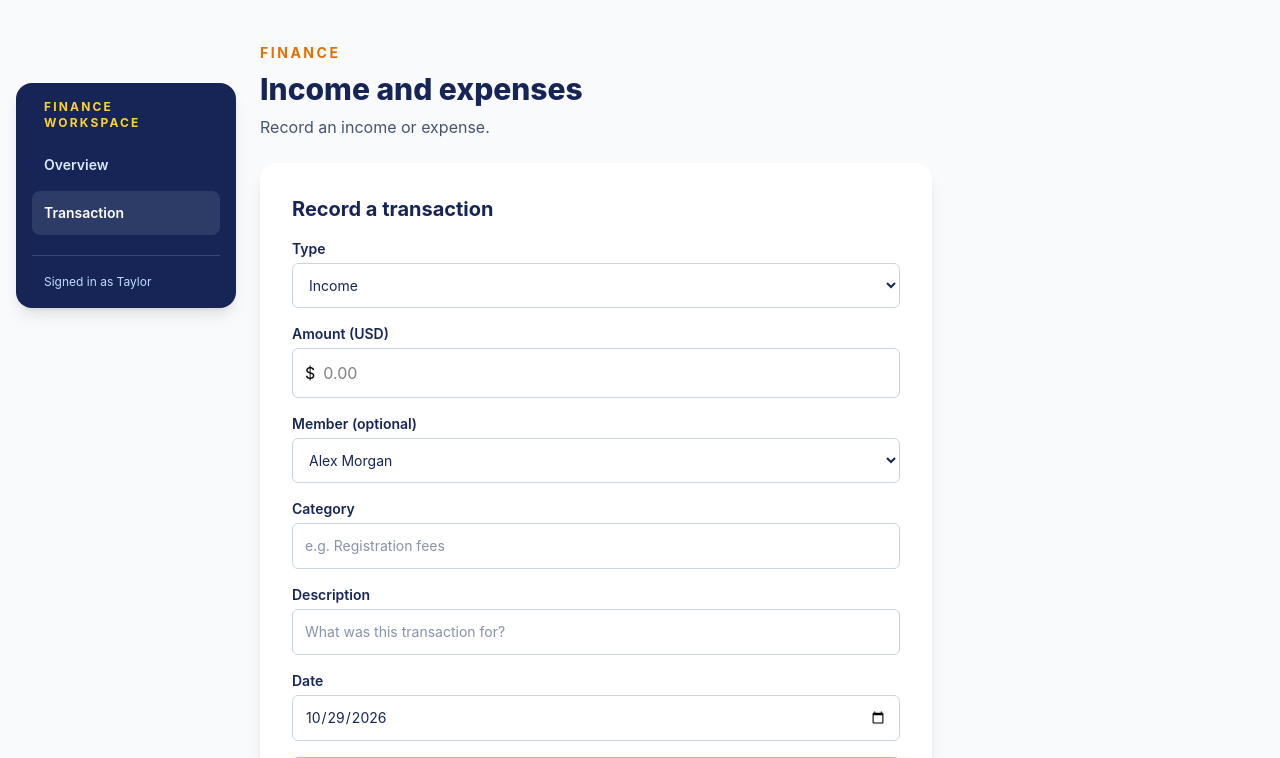
Scenario: Finance › links a recorded income payment to the selected member
Select "Alex Morgan" in the dropdown labelled "Member (optional)" at (596, 460), box x1=292 y1=438 x2=900 y2=483
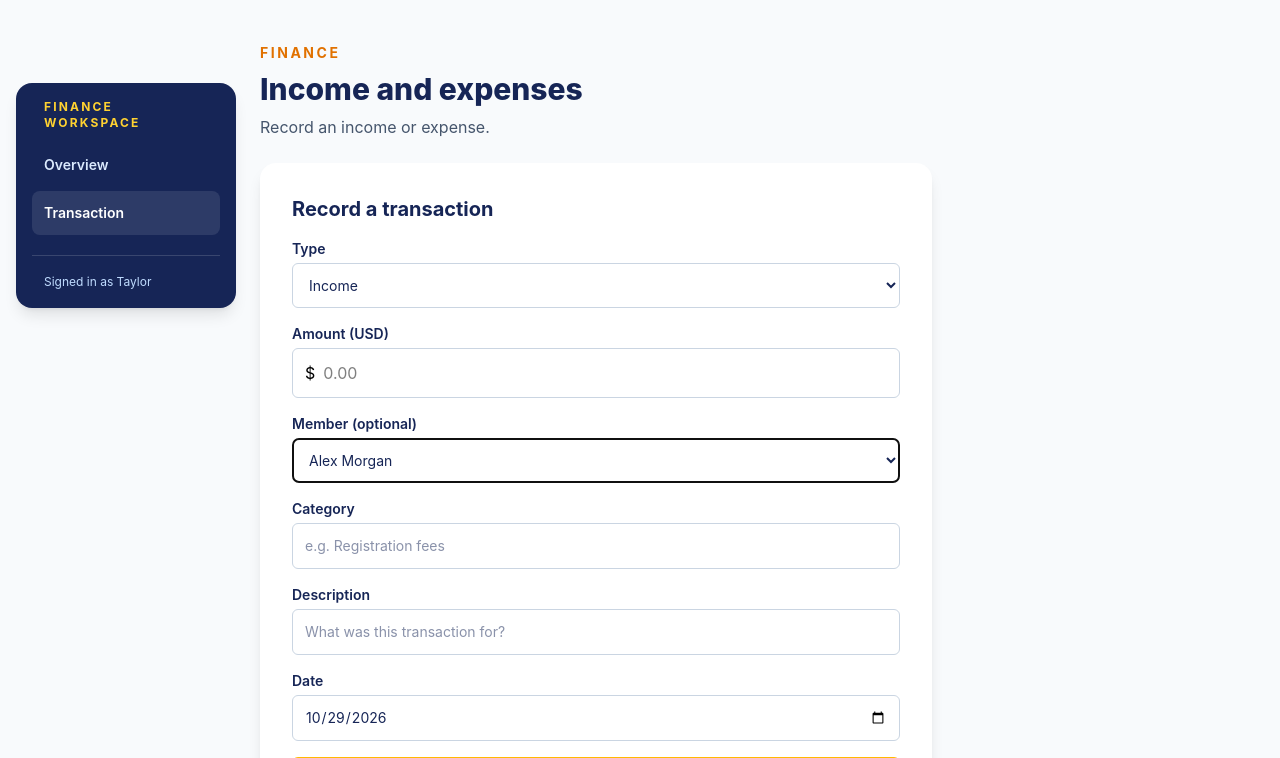
Type "25.00" into the number field labelled "Amount (USD)".
click(601, 373); type("25.00")  # box x1=315 y1=349 x2=887 y2=397
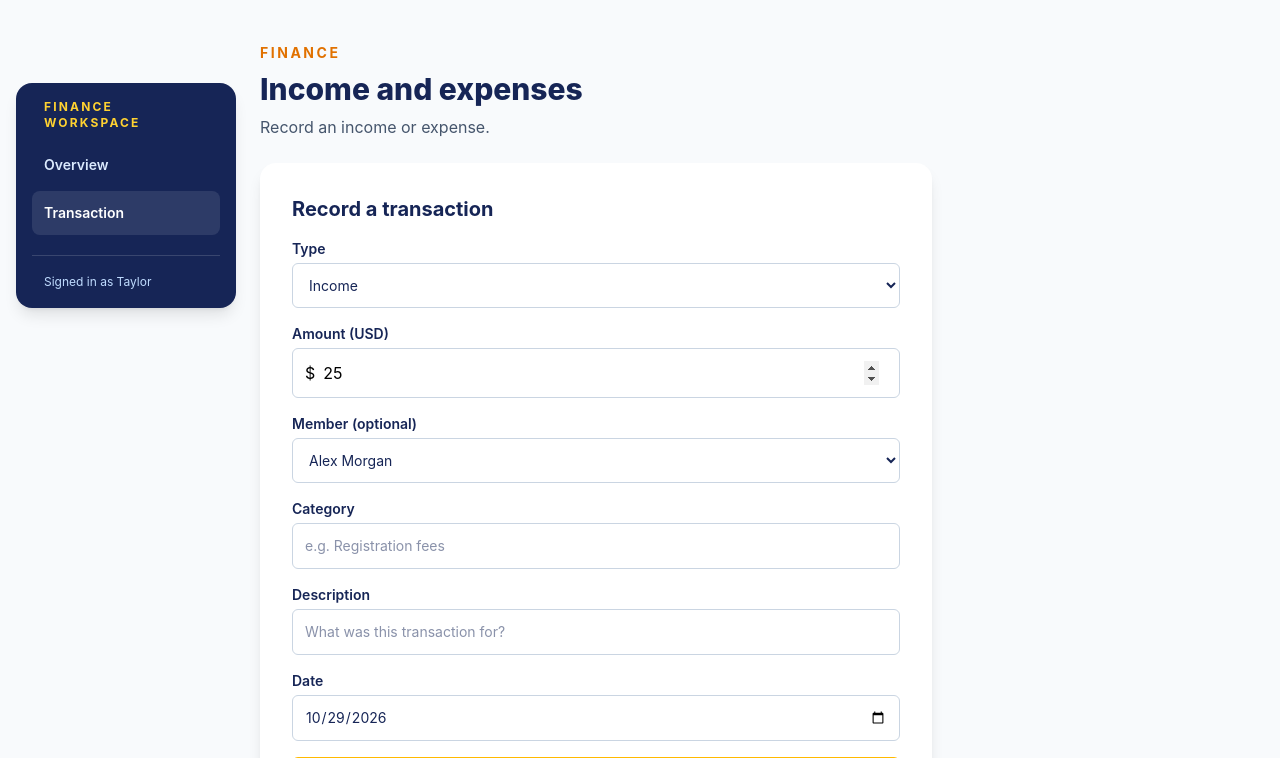
Type "Membership" into the field labelled "Category".
click(596, 546); type("Membership")  # box x1=292 y1=523 x2=900 y2=569
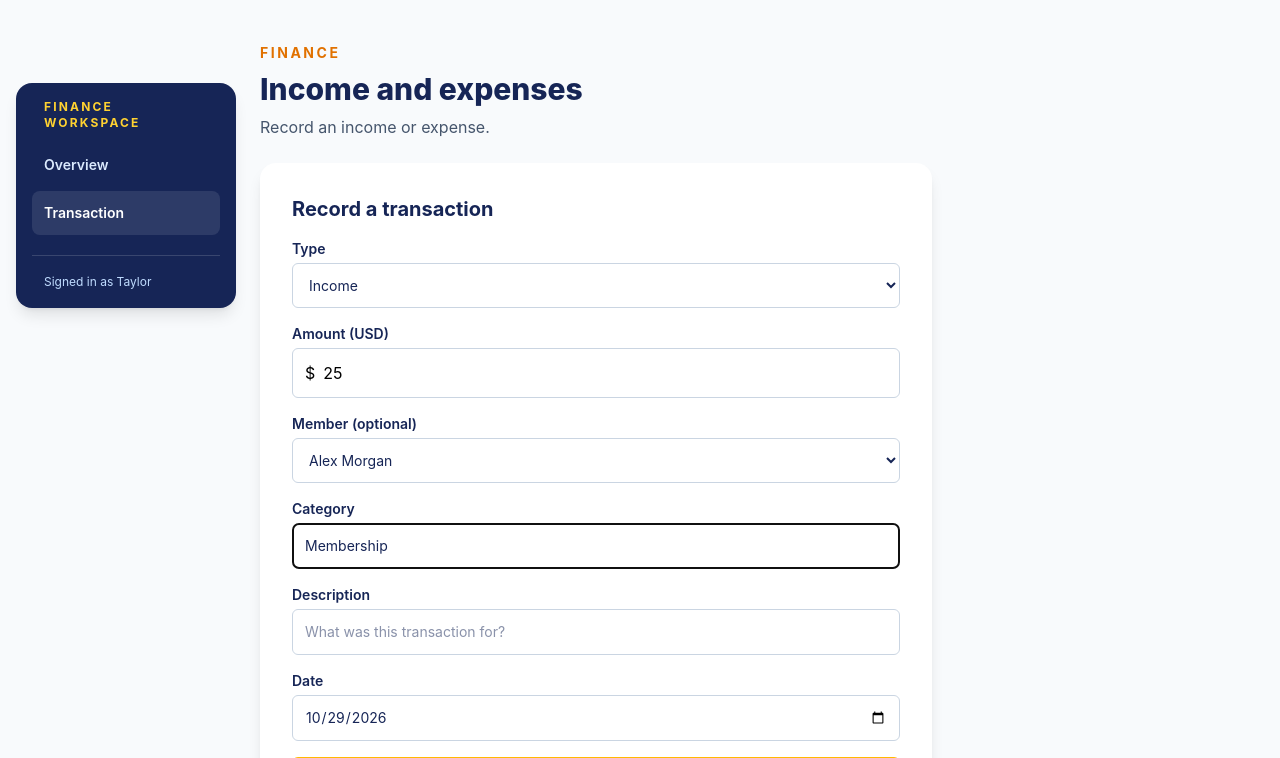
Type "Membership dues" into the field labelled "Description".
click(596, 632); type("Membership dues")  # box x1=292 y1=609 x2=900 y2=655
(page scrolled)
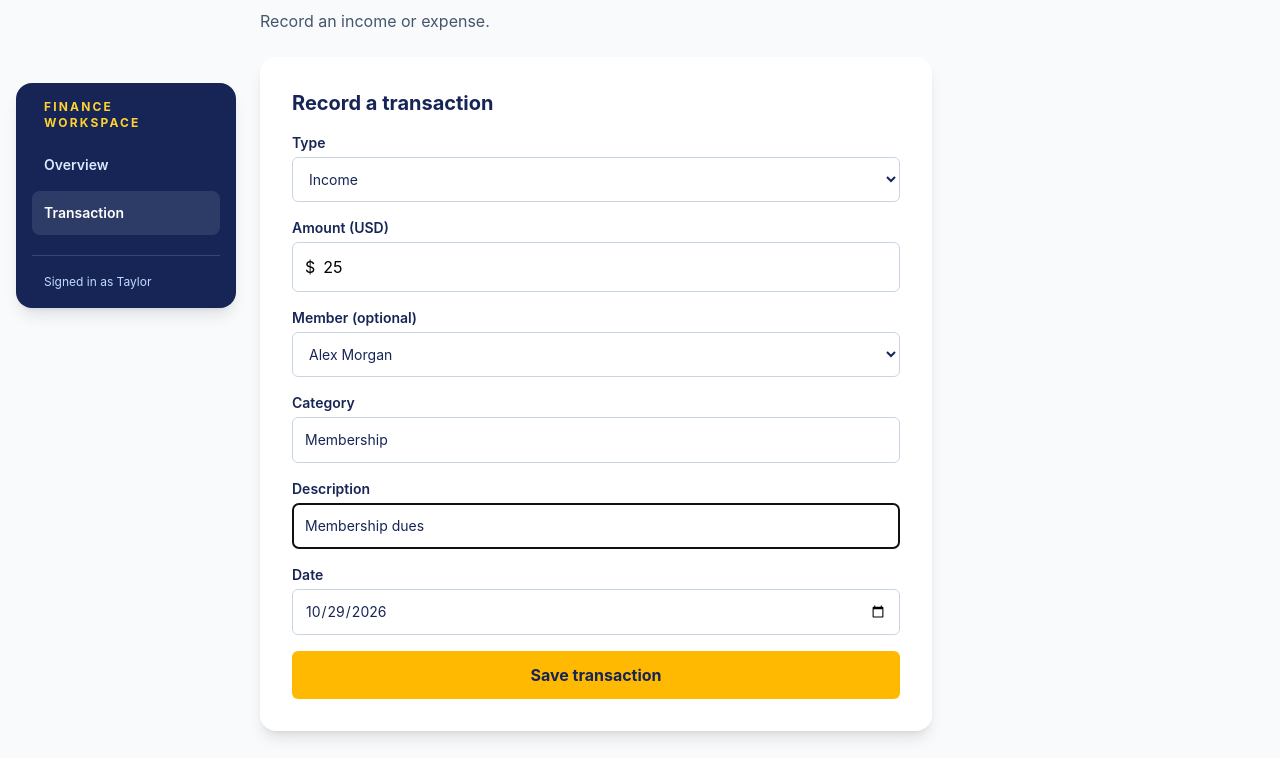
Click the button "Save transaction".
click(596, 675)  # box x1=292 y1=651 x2=900 y2=699
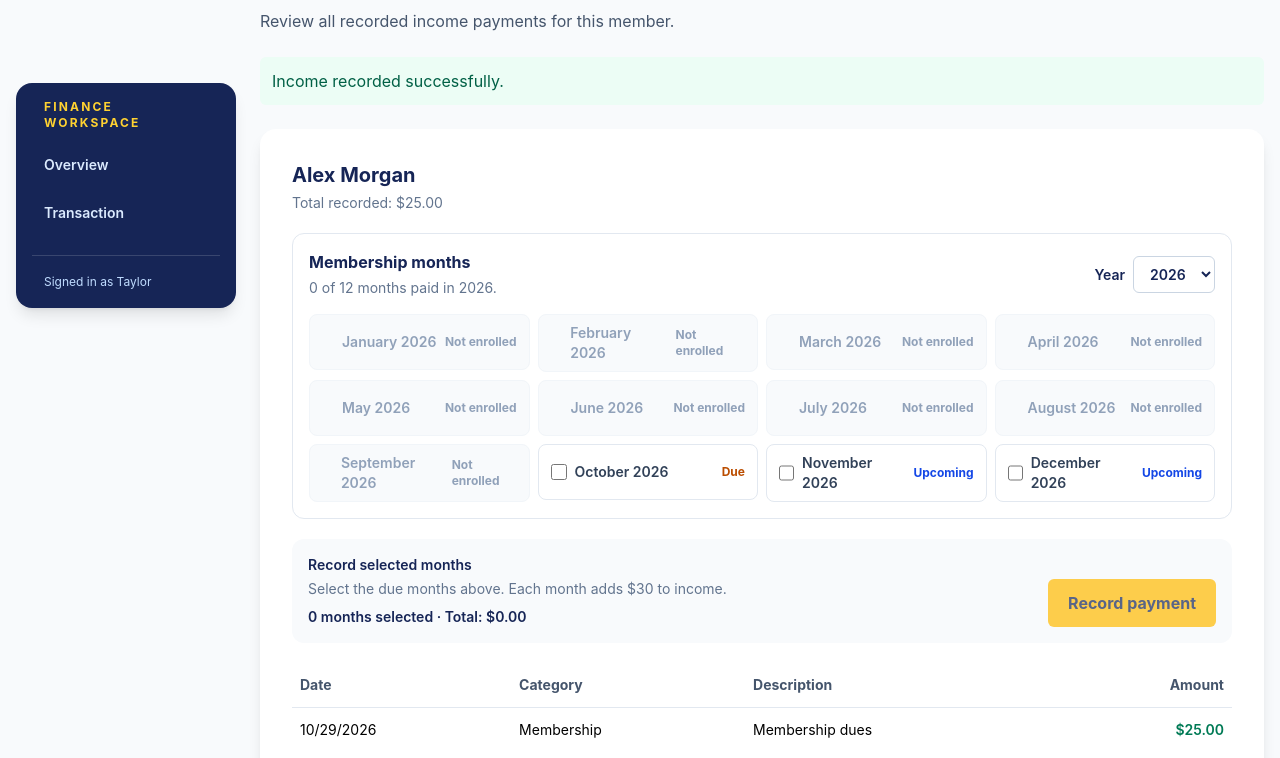
expect the heading "Alex Morgan" is shown: met, box x1=292 y1=163 x2=416 y2=187
expect the text "Total recorded: $25.00" is shown: met, box x1=292 y1=193 x2=443 y2=213
